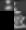recallP: (14, 11, 26, 30), (0, 0, 14, 11), (14, 0, 26, 11)
